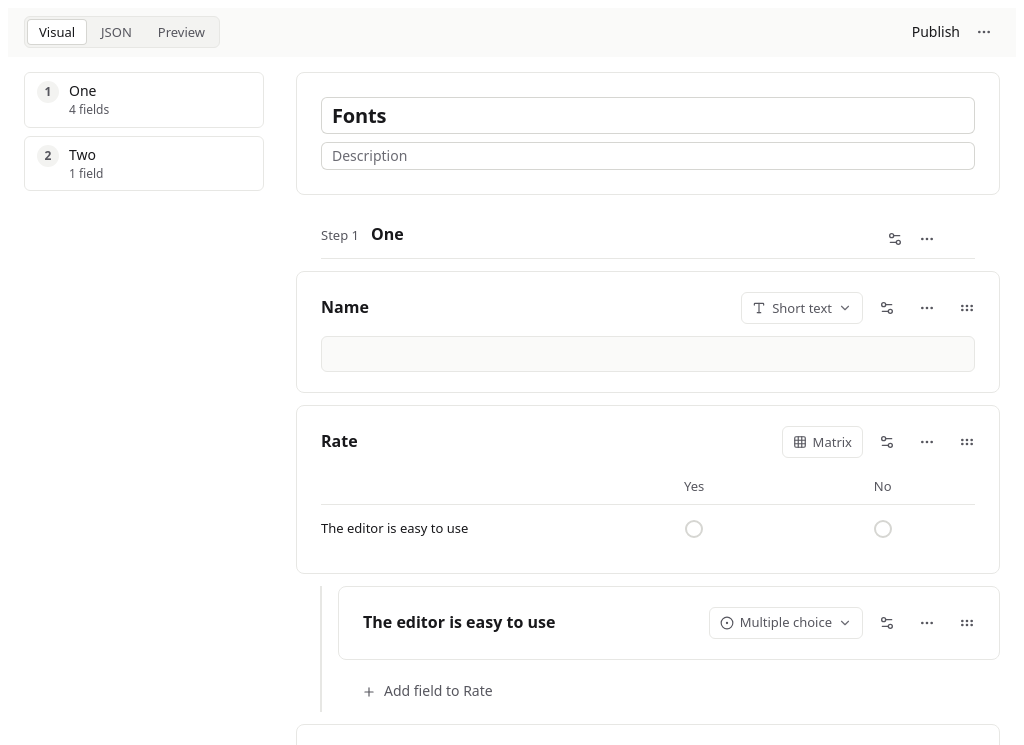
Test: overlays inherit the editor font on a serif host page › uses the editor font in the tooltip at 1280
Hover over the 1st button named "Field settings": (887,308) [871,292,903,324]
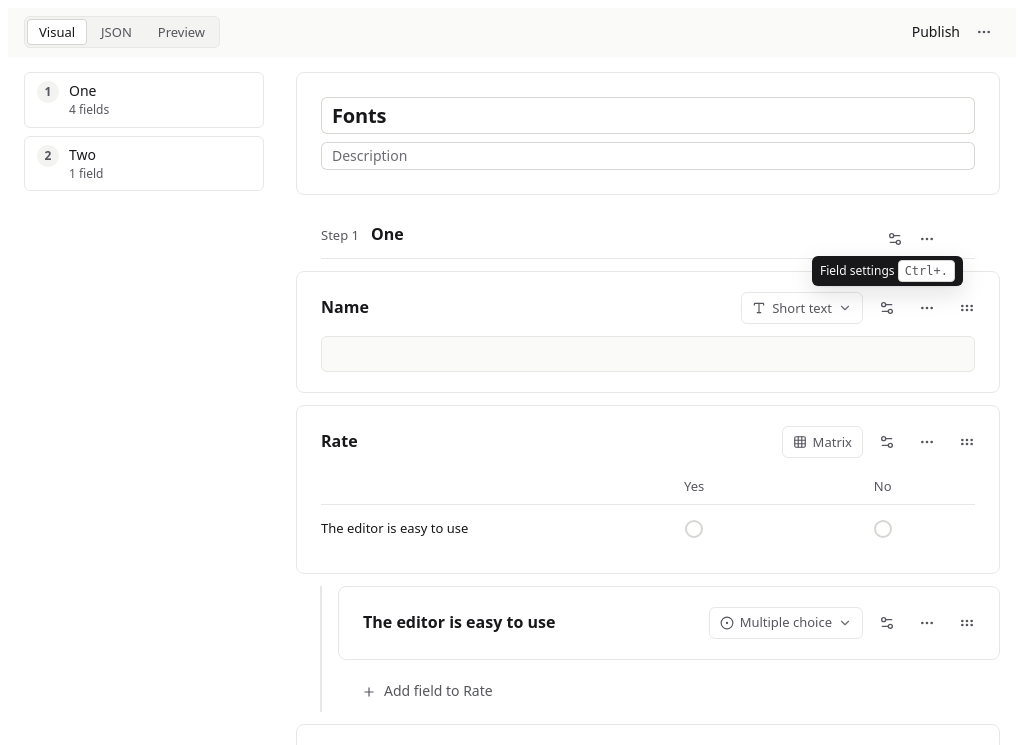
Now the tooltip "Field settings Ctrl+." is shown, box [812,256,963,286]
